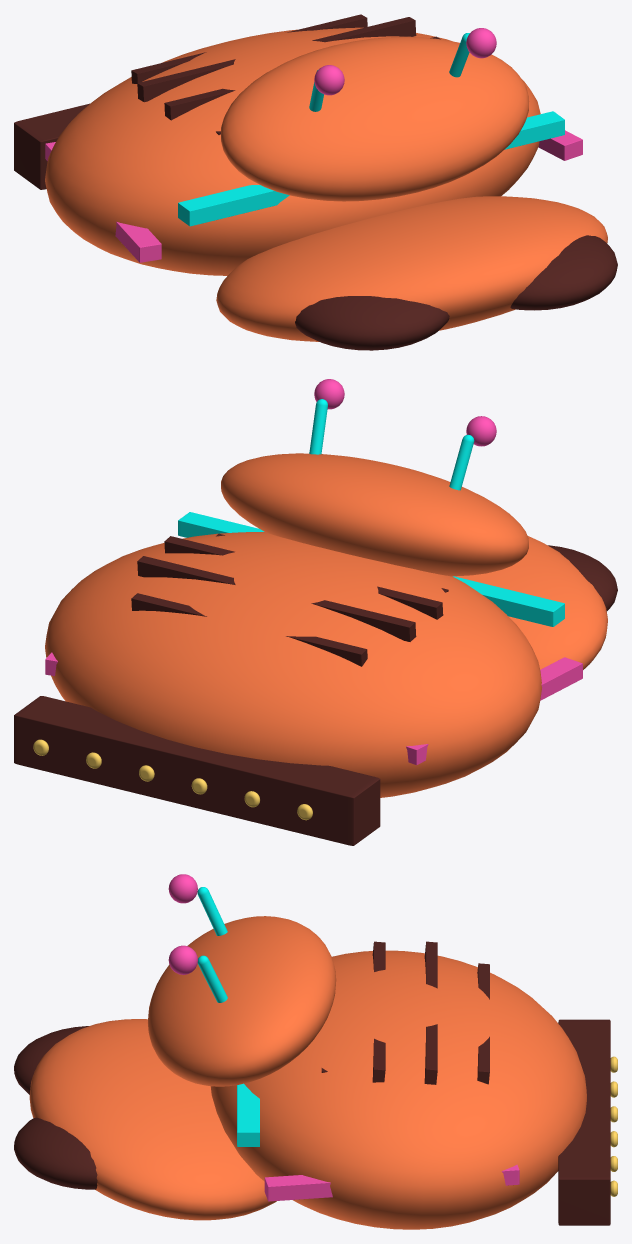
Rendered from snap_back_blockout.glb.
3 views of the same model, one above another, from view 1: azimuth 30°, elevation 25°; view 2: azimuth 150°, elevation 25°; view 3: azimuth 270°, elevation 25° (orthographic). The views are drawn at different scales.
Parts seen in each view (by area): view 1: SnapBack_Main_Claw_Crown, SnapBack_Upper_Pincer_Arc, SnapBack_Lower_Pincer_Brim, SnapBack_Left_Claw_Tip_Dark, SnapBack_Right_Claw_Tip_Dark, SnapBack_Cyan_Neon_Brow_Trim, SnapBack_Back_Strap_Hinge, SnapBack_Shell_Ridge_3, SnapBack_Pink_Side_Trim, SnapBack_Shell_Ridge_4, SnapBack_Pink_Side_Trim_R, SnapBack_Shell_Ridge_2 (+3 smaller); view 2: SnapBack_Main_Claw_Crown, SnapBack_Upper_Pincer_Arc, SnapBack_Back_Strap_Hinge, SnapBack_Lower_Pincer_Brim, SnapBack_Cyan_Neon_Brow_Trim, SnapBack_Shell_Ridge_3, SnapBack_Shell_Ridge_4, SnapBack_Shell_Ridge_2, SnapBack_Pink_Side_Trim, SnapBack_Left_Claw_Tip_Dark, SnapBack_Antenna_Glow_Dot, SnapBack_Subtle_Antenna_Accent (+2 smaller); view 3: SnapBack_Main_Claw_Crown, SnapBack_Lower_Pincer_Brim, SnapBack_Upper_Pincer_Arc, SnapBack_Back_Strap_Hinge, SnapBack_Right_Claw_Tip_Dark, SnapBack_Pink_Side_Trim_R, SnapBack_Left_Claw_Tip_Dark, SnapBack_Cyan_Neon_Brow_Trim, SnapBack_Shell_Ridge_3, SnapBack_Shell_Ridge_2, SnapBack_Shell_Ridge_4, SnapBack_Antenna_Glow_Dot (+3 smaller).
Part boxes in pixels (left/top/right/bottom): SnapBack_Main_Claw_Crown: left=45, top=27, right=540, bottom=275; SnapBack_Upper_Pincer_Arc: left=221, top=36, right=528, bottom=201; SnapBack_Lower_Pincer_Brim: left=216, top=196, right=607, bottom=341; SnapBack_Left_Claw_Tip_Dark: left=295, top=296, right=449, bottom=350; SnapBack_Right_Claw_Tip_Dark: left=510, top=235, right=617, bottom=310; SnapBack_Cyan_Neon_Brow_Trim: left=178, top=111, right=564, bottom=226; SnapBack_Back_Strap_Hinge: left=14, top=103, right=89, bottom=189; SnapBack_Shell_Ridge_3: left=137, top=17, right=416, bottom=102; SnapBack_Pink_Side_Trim: left=45, top=142, right=161, bottom=262; SnapBack_Shell_Ridge_4: left=131, top=14, right=367, bottom=83; SnapBack_Pink_Side_Trim_R: left=538, top=130, right=582, bottom=160; SnapBack_Shell_Ridge_2: left=164, top=36, right=440, bottom=120; SnapBack_Main_Claw_Crown: left=45, top=532, right=541, bottom=797; SnapBack_Upper_Pincer_Arc: left=221, top=453, right=528, bottom=576; SnapBack_Back_Strap_Hinge: left=14, top=696, right=380, bottom=845; SnapBack_Lower_Pincer_Brim: left=455, top=536, right=607, bottom=669; SnapBack_Cyan_Neon_Brow_Trim: left=178, top=512, right=564, bottom=626; SnapBack_Shell_Ridge_3: left=137, top=556, right=416, bottom=641; SnapBack_Shell_Ridge_4: left=131, top=593, right=367, bottom=666; SnapBack_Shell_Ridge_2: left=164, top=536, right=443, bottom=619; SnapBack_Pink_Side_Trim: left=406, top=657, right=582, bottom=765; SnapBack_Left_Claw_Tip_Dark: left=548, top=545, right=617, bottom=611; SnapBack_Antenna_Glow_Dot: left=466, top=416, right=496, bottom=446; SnapBack_Subtle_Antenna_Accent: left=449, top=434, right=474, bottom=490; SnapBack_Main_Claw_Crown: left=210, top=950, right=586, bottom=1229; SnapBack_Lower_Pincer_Brim: left=29, top=1019, right=276, bottom=1220; SnapBack_Upper_Pincer_Arc: left=148, top=916, right=336, bottom=1086; SnapBack_Back_Strap_Hinge: left=558, top=1019, right=610, bottom=1225; SnapBack_Right_Claw_Tip_Dark: left=14, top=1117, right=97, bottom=1189; SnapBack_Pink_Side_Trim_R: left=264, top=1164, right=519, bottom=1201; SnapBack_Left_Claw_Tip_Dark: left=14, top=1026, right=88, bottom=1094; SnapBack_Cyan_Neon_Brow_Trim: left=237, top=1083, right=259, bottom=1146; SnapBack_Shell_Ridge_3: left=424, top=941, right=437, bottom=1084; SnapBack_Shell_Ridge_2: left=372, top=941, right=385, bottom=1082; SnapBack_Shell_Ridge_4: left=477, top=963, right=489, bottom=1084; SnapBack_Antenna_Glow_Dot: left=168, top=874, right=197, bottom=903.
Size of the model in its own units: 1.56 by 0.907 by 1.85.
